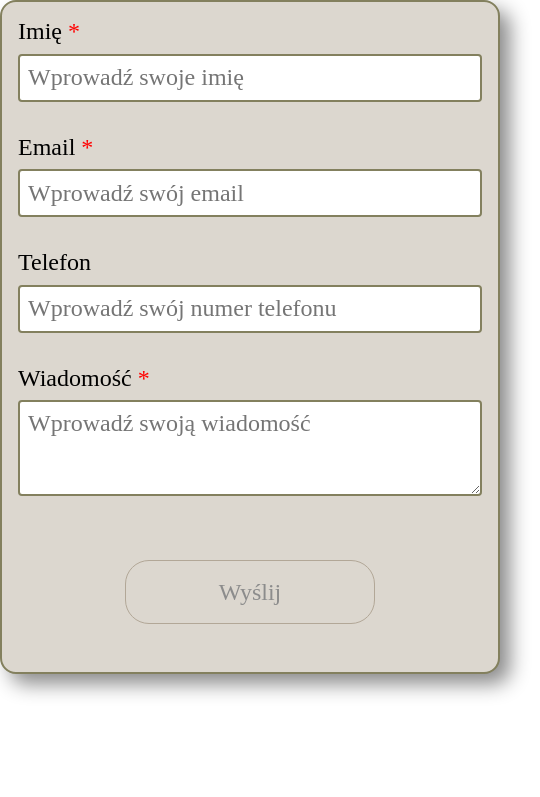
Test: ContactForm › should display server response message on form submit
In the field labelled "Imię *": (250, 78) [18, 54, 482, 102], type "John Doe"
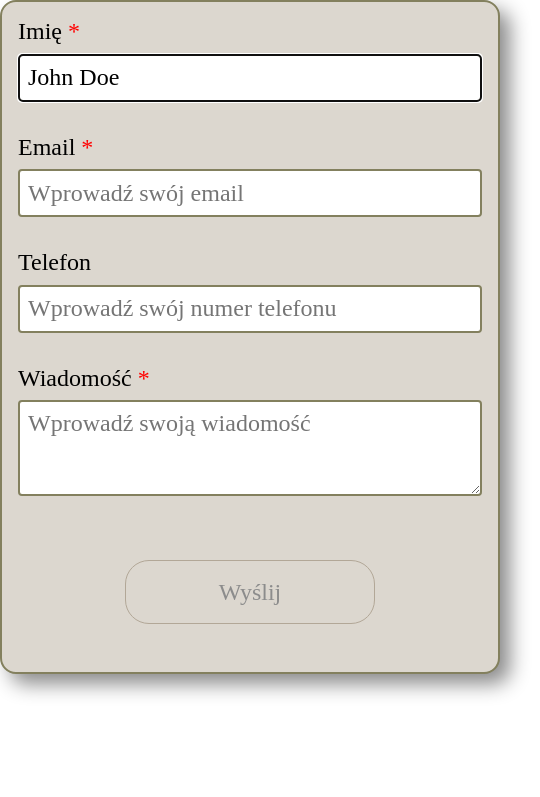
In the field labelled "Email *": (250, 193) [18, 169, 482, 217], type "test@test.com"
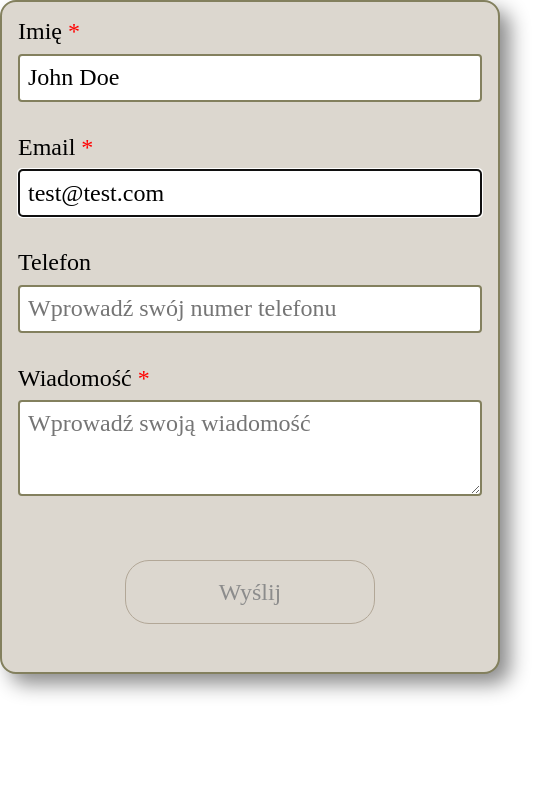
In the field labelled "Telefon": (250, 309) [18, 285, 482, 333], type "123456789"
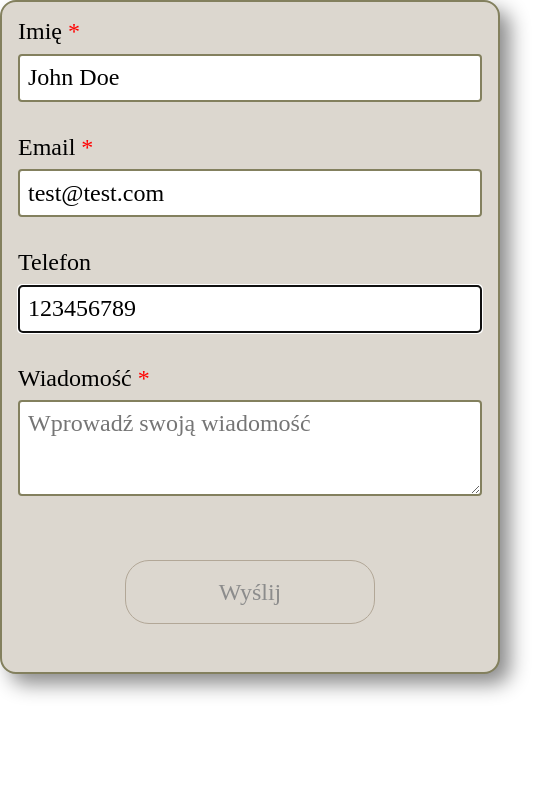
In the text box labelled "Wiadomość *": (250, 448) [18, 400, 482, 496], type "Hello World"
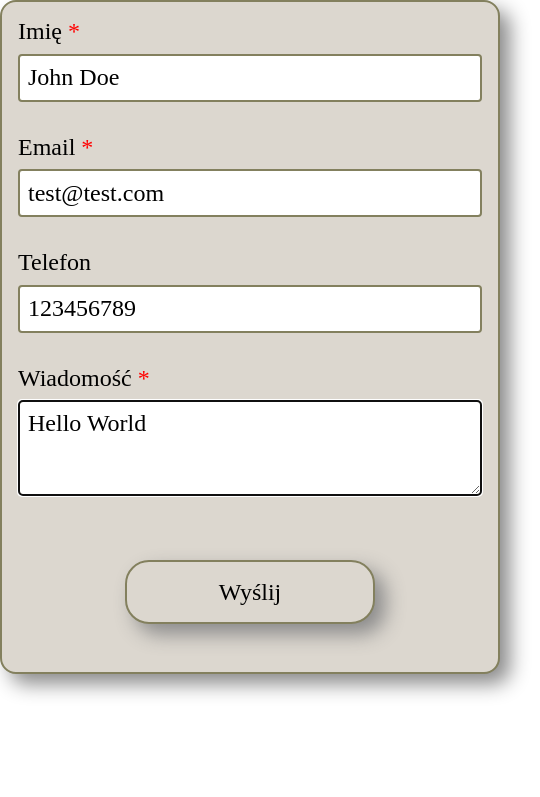
Click the button "Wyślij": (250, 592) [125, 560, 375, 624]
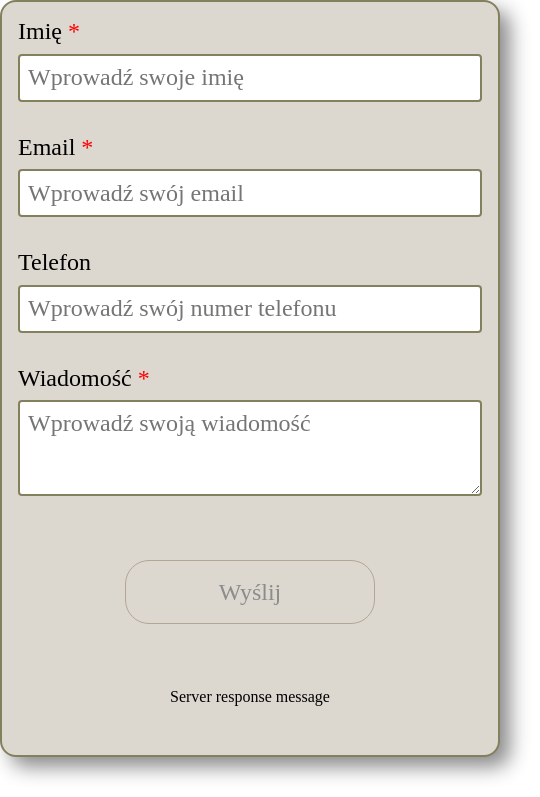
Now the text "Server response message" is shown, box [170, 688, 330, 707]
